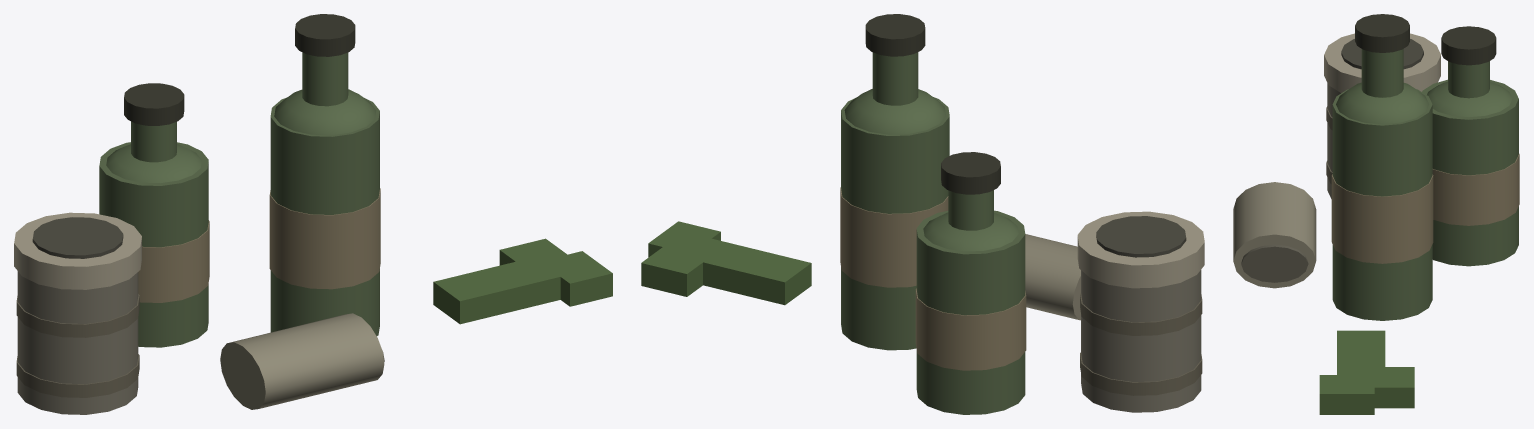
The model's file is CMU3DDecorFloorGlass6.glb.
The picture shows the model from 3 angles, left to right: view 1: azimuth 30°, elevation 25°; view 2: azimuth 150°, elevation 25°; view 3: azimuth 270°, elevation 25°; orthographic projection. The views are drawn at different scales.
Visible parts, largest first — view 1: discarded bottle body (×2), weathered paper label (×2), dented metal can, crushed can, broken glass shard (×3), rolled can rim, bottle shoulder (×2), bottle mouth rim (×2), bottle neck (×2), can seam (×2), dark can top; view 2: discarded bottle body (×2), weathered paper label (×2), dented metal can, broken glass shard (×3), rolled can rim, bottle shoulder (×2), bottle mouth rim (×2), crushed can, bottle neck (×2), can seam (×2), dark can top; view 3: discarded bottle body (×2), weathered paper label (×2), broken glass shard (×3), crushed can, bottle shoulder (×2), bottle mouth rim (×2), bottle neck (×2), rolled can rim, crushed can end, dark can top, dented metal can.
Boxes of the visible parts, box(x1,y1,x2,y2) form: discarded bottle body (×2): box(99, 97, 379, 347); weathered paper label (×2): box(138, 188, 380, 302); dented metal can: box(17, 271, 138, 414); crushed can: box(220, 313, 384, 409); broken glass shard (×3): box(433, 238, 612, 324); rolled can rim: box(14, 212, 141, 289); bottle shoulder (×2): box(106, 89, 375, 183); bottle mouth rim (×2): box(124, 14, 355, 125); bottle neck (×2): box(131, 52, 348, 162); can seam (×2): box(16, 294, 139, 397); dark can top: box(32, 217, 123, 258); discarded bottle body (×2): box(841, 97, 1025, 414); weathered paper label (×2): box(840, 187, 1026, 370); dented metal can: box(1081, 270, 1201, 412); broken glass shard (×3): box(641, 221, 811, 305); rolled can rim: box(1077, 211, 1204, 288); bottle shoulder (×2): box(844, 89, 1018, 251); bottle mouth rim (×2): box(865, 14, 1000, 194); crushed can: box(1025, 234, 1080, 320); bottle neck (×2): box(872, 52, 993, 230); can seam (×2): box(1080, 292, 1202, 395); dark can top: box(1096, 216, 1186, 257); discarded bottle body (×2): box(1332, 79, 1518, 320); weathered paper label (×2): box(1331, 153, 1519, 263); broken glass shard (×3): box(1319, 330, 1414, 414); crushed can: box(1233, 182, 1316, 288); bottle shoulder (×2): box(1336, 81, 1512, 124); bottle mouth rim (×2): box(1355, 14, 1496, 65); bottle neck (×2): box(1361, 49, 1489, 98); rolled can rim: box(1324, 33, 1440, 93); crushed can end: box(1241, 244, 1308, 282); dark can top: box(1341, 39, 1423, 69); dented metal can: box(1327, 83, 1340, 198).
Size of the model in its own units: 0.8317 by 0.4374 by 0.409.
